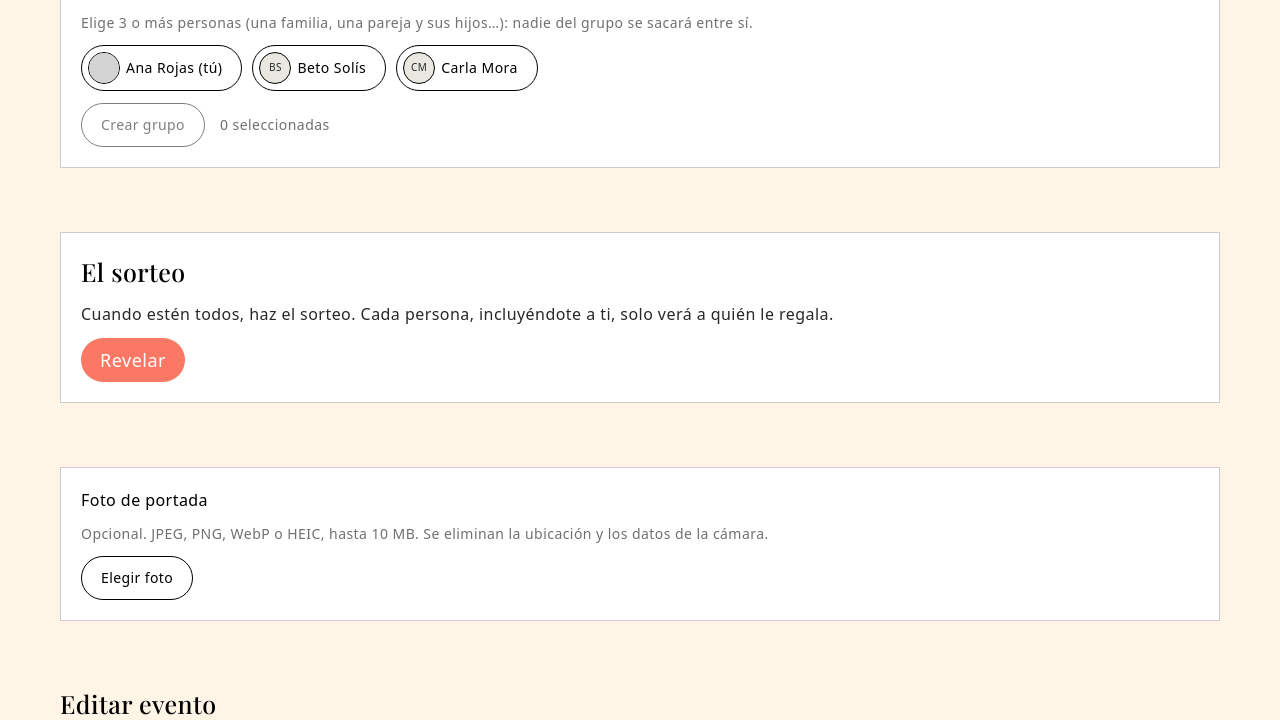
Manage › Reveal › shows the server error and stays on Manage when the draw is refused
(page scrolled)
Click the button "Revelar": click(133, 360) [81,338,185,382]
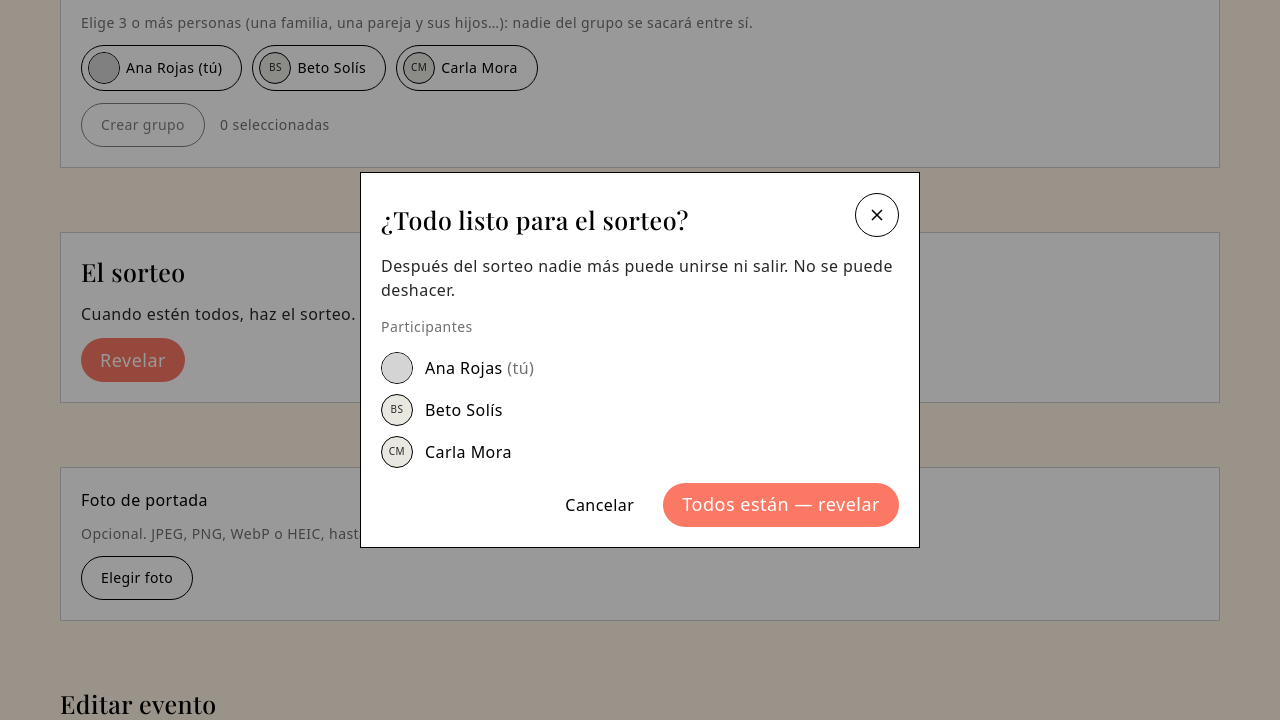
Click the button "Todos están — revelar": click(781, 505) [663,483,899,527]
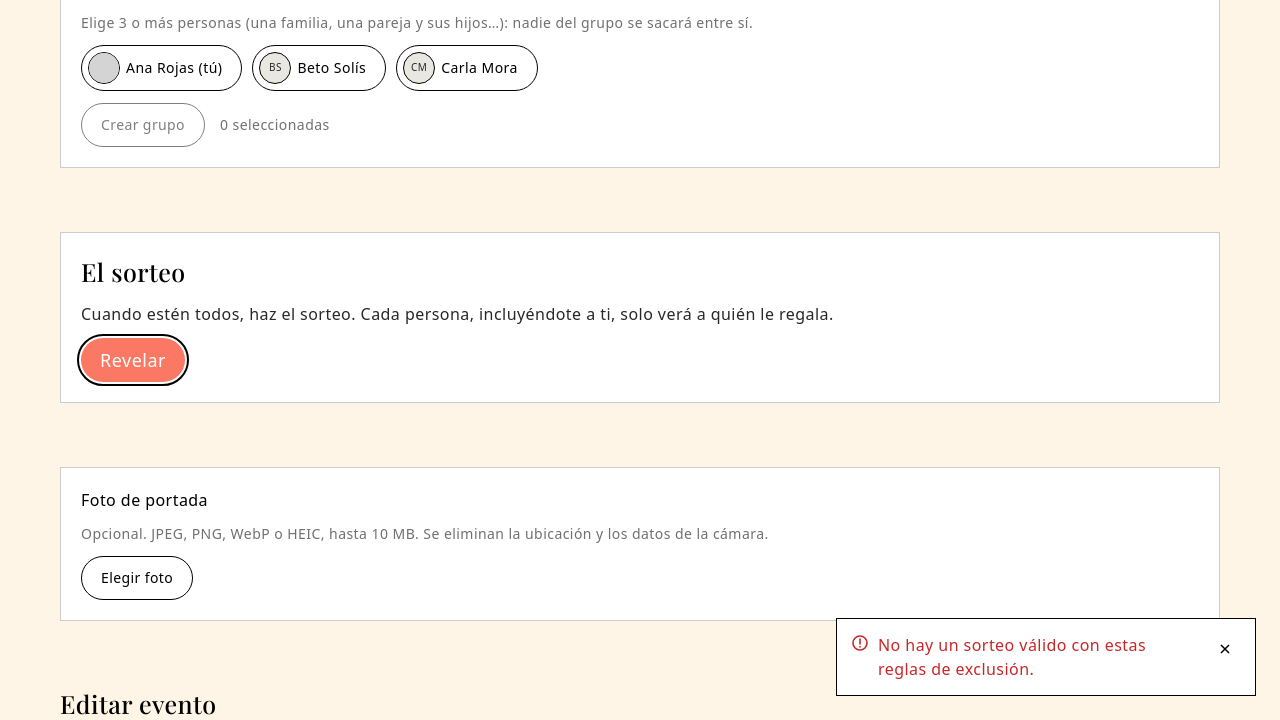
Result: the text "No hay un sorteo válido con estas reglas de exclusión." is shown at [878,633,1193,681]
Result: the dialog is gone
